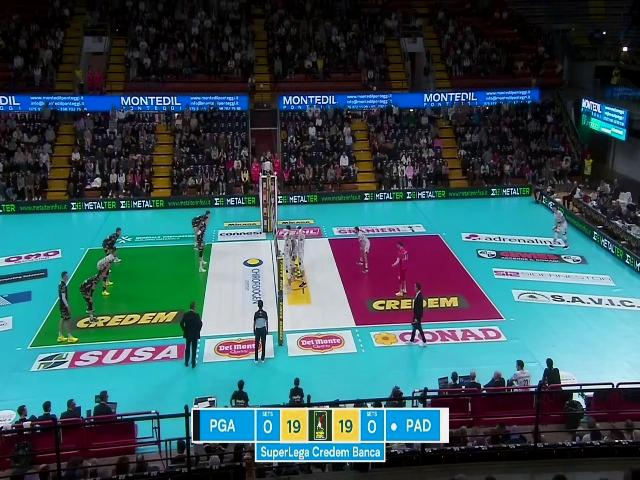volleyball court: (25, 233, 507, 347)
